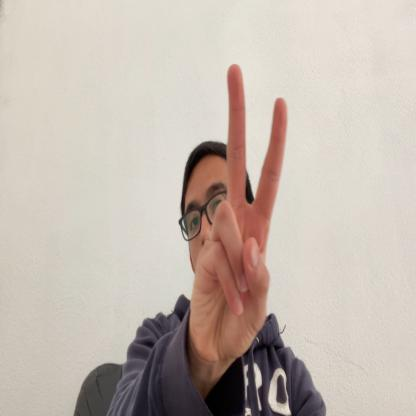V: (189, 63, 287, 370)
